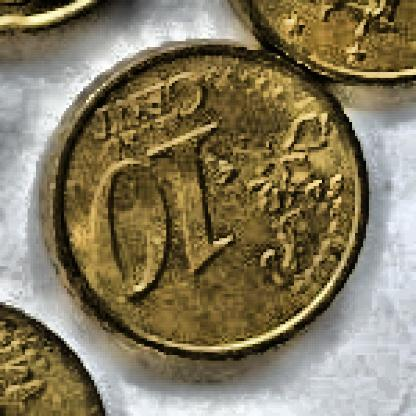coin: (37, 35, 371, 365)
